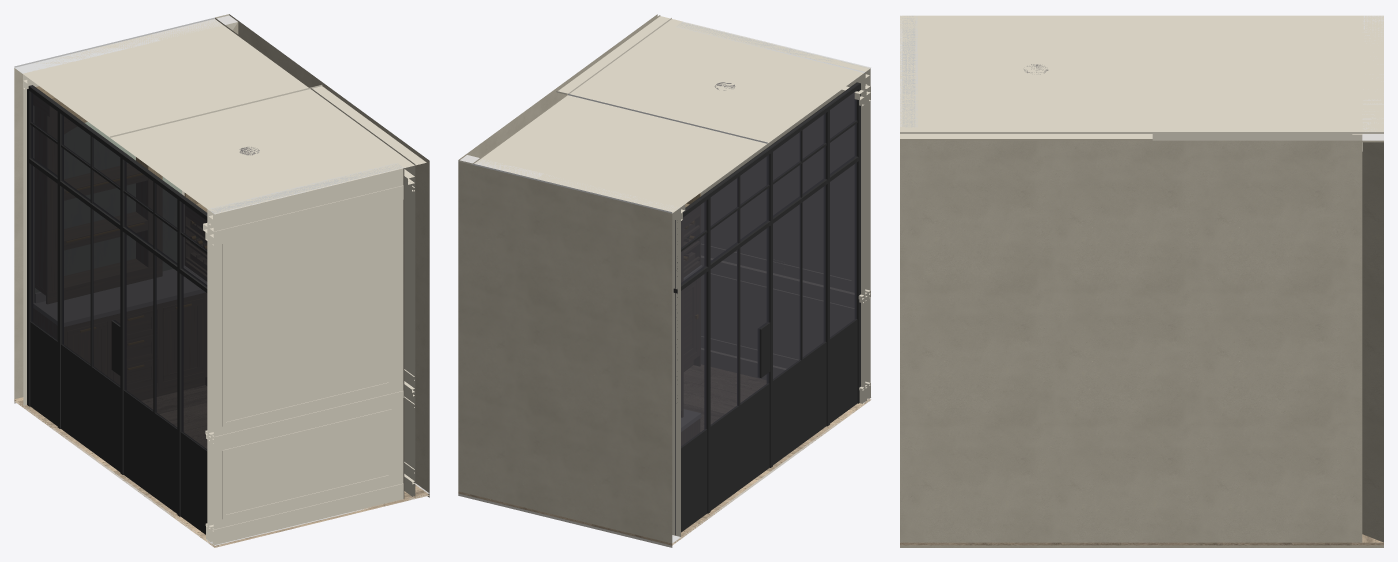
The model's file is wine-cellar-9b2203d346c6.glb.
3 renders of one model, left to right at view 1: azimuth 30°, elevation 25°; view 2: azimuth 150°, elevation 25°; view 3: azimuth 270°, elevation 25°, orthographic. The views are drawn at different scales.
Visible parts, largest first — view 1: wine-cellar-bd4023b7987ad736, wine-cellar-cbd4bf73d9724a66, wine-cellar-2575515a05775d9e, wine-cellar-9a0e9ee9b2a451d7, wine-cellar-37ce92237345380e, wine-cellar-af97eba351c411ae, wine-cellar-78db8eb36c243d8d, wine-cellar-a72fb3d9723cf509, wine-cellar-bfb9fa537cd11d1d, wine-cellar-bfd21f48dd17272b, wine-cellar-3b0077416469e01b, wine-cellar-9329b5775314f375 (+19 smaller); view 2: wine-cellar-bfb9fa537cd11d1d, wine-cellar-cbd4bf73d9724a66, wine-cellar-005133a37c0fb221, wine-cellar-bd4023b7987ad736, wine-cellar-2575515a05775d9e, wine-cellar-9a0e9ee9b2a451d7, wine-cellar-37ce92237345380e, wine-cellar-3b0077416469e01b, wine-cellar-af97eba351c411ae, wine-cellar-f2a242bb00ea19a7, wine-cellar-b50f223d50a24895, wine-cellar-7ab3fc8e91a813ab (+15 smaller); view 3: wine-cellar-af97eba351c411ae, wine-cellar-2575515a05775d9e, wine-cellar-9a0e9ee9b2a451d7, wine-cellar-005133a37c0fb221, wine-cellar-3b0077416469e01b, wine-cellar-bd4023b7987ad736, wine-cellar-76fec1e12e3db62a, wine-cellar-8da509c3b17684ba.
Part boxes in pixels (bbox=[...]): wine-cellar-bd4023b7987ad736: bbox=[207, 163, 404, 545]; wine-cellar-cbd4bf73d9724a66: bbox=[30, 85, 207, 450]; wine-cellar-2575515a05775d9e: bbox=[110, 85, 426, 213]; wine-cellar-9a0e9ee9b2a451d7: bbox=[14, 17, 309, 137]; wine-cellar-37ce92237345380e: bbox=[30, 321, 207, 534]; wine-cellar-af97eba351c411ae: bbox=[215, 14, 429, 496]; wine-cellar-78db8eb36c243d8d: bbox=[35, 107, 162, 303]; wine-cellar-a72fb3d9723cf509: bbox=[34, 107, 181, 301]; wine-cellar-bfb9fa537cd11d1d: bbox=[14, 35, 159, 405]; wine-cellar-bfd21f48dd17272b: bbox=[68, 299, 202, 389]; wine-cellar-3b0077416469e01b: bbox=[14, 386, 429, 547]; wine-cellar-9329b5775314f375: bbox=[212, 483, 403, 545]; wine-cellar-bfb9fa537cd11d1d: bbox=[535, 174, 680, 543]; wine-cellar-cbd4bf73d9724a66: bbox=[675, 83, 857, 535]; wine-cellar-005133a37c0fb221: bbox=[458, 159, 543, 509]; wine-cellar-bd4023b7987ad736: bbox=[676, 21, 871, 402]; wine-cellar-2575515a05775d9e: bbox=[556, 15, 869, 143]; wine-cellar-9a0e9ee9b2a451d7: bbox=[472, 94, 767, 213]; wine-cellar-37ce92237345380e: bbox=[681, 319, 857, 532]; wine-cellar-3b0077416469e01b: bbox=[458, 365, 870, 545]; wine-cellar-af97eba351c411ae: bbox=[458, 14, 671, 164]; wine-cellar-f2a242bb00ea19a7: bbox=[705, 193, 710, 513]; wine-cellar-b50f223d50a24895: bbox=[824, 105, 829, 426]; wine-cellar-7ab3fc8e91a813ab: bbox=[855, 82, 860, 403]; wine-cellar-af97eba351c411ae: bbox=[900, 132, 1383, 542]; wine-cellar-2575515a05775d9e: bbox=[900, 15, 1152, 140]; wine-cellar-9a0e9ee9b2a451d7: bbox=[1152, 15, 1383, 131]; wine-cellar-005133a37c0fb221: bbox=[1362, 99, 1383, 542]; wine-cellar-3b0077416469e01b: bbox=[900, 534, 1383, 545]; wine-cellar-bd4023b7987ad736: bbox=[900, 15, 917, 127]; wine-cellar-76fec1e12e3db62a: bbox=[900, 545, 1383, 547]; wine-cellar-8da509c3b17684ba: bbox=[1352, 15, 1362, 151].
Size of the model in its own units: 2.03 by 3.05 by 3.28.
25 materials, 7 textured.
